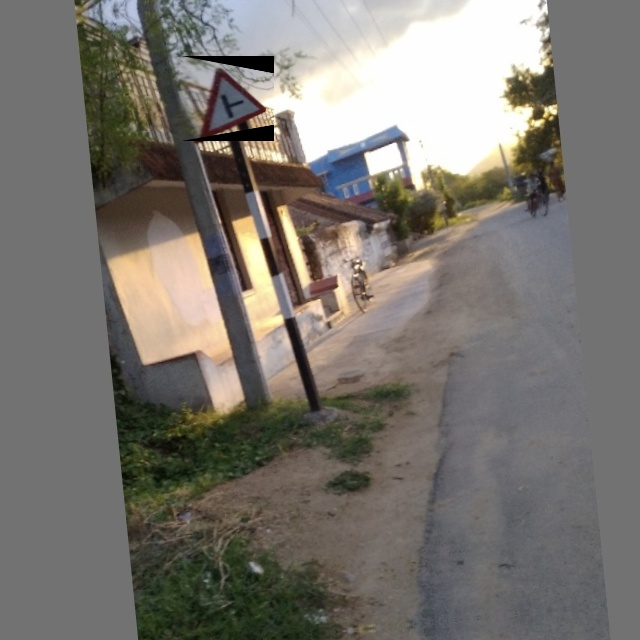Side_Road_Right: (181, 56, 274, 141)
